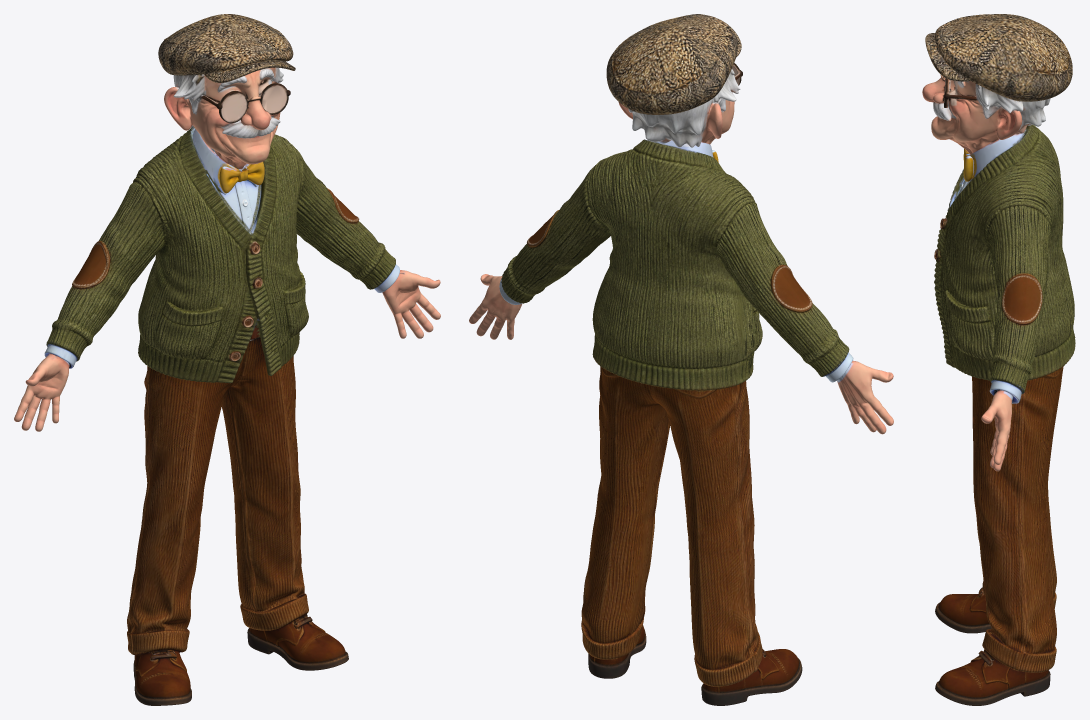
3 renders of one model, left to right at view 1: azimuth 30°, elevation 25°; view 2: azimuth 150°, elevation 25°; view 3: azimuth 270°, elevation 25°, orthographic.
Visible parts, largest first — view 1: elderly-man; view 2: elderly-man; view 3: elderly-man.
Part boxes in pixels (x1=…): elderly-man: x1=14, y1=14, x2=440, y2=705; elderly-man: x1=469, y1=14, x2=893, y2=705; elderly-man: x1=922, y1=14, x2=1075, y2=705.
Size of the model in its own units: 1.2 by 1.75 by 0.3804.
1 material, 1 textured.
